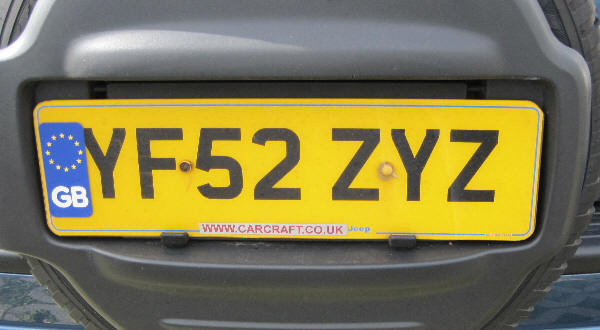license_plate: (32, 98, 546, 242)
